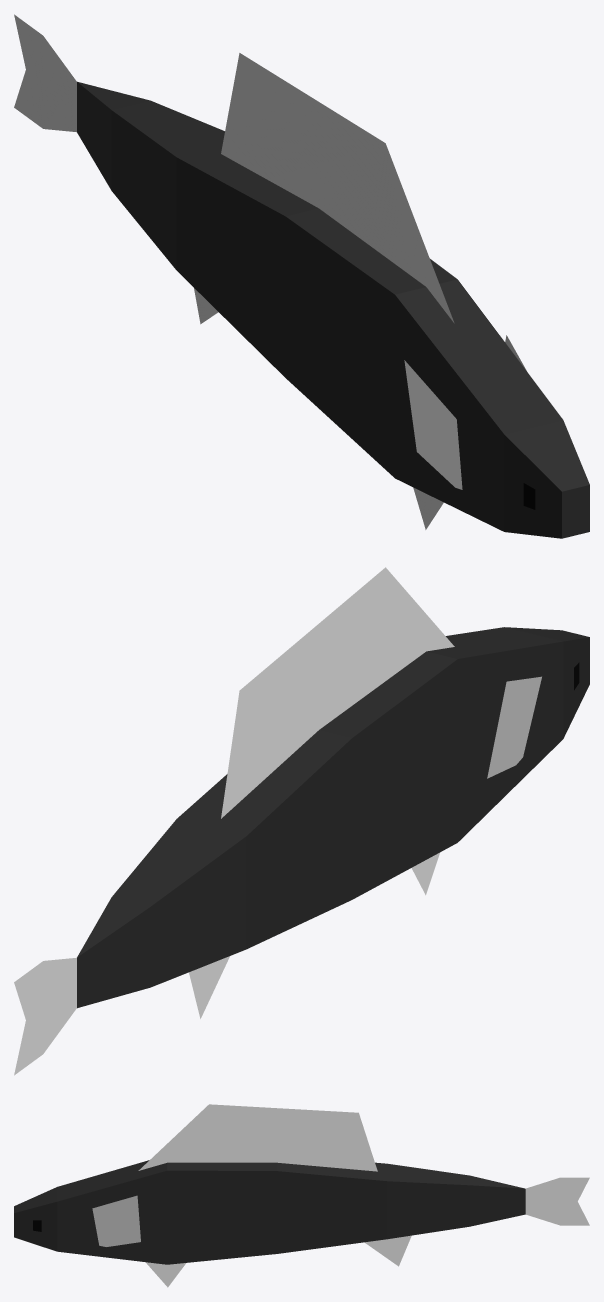
File: 16barracuda.fbx
3 renders of one model, top to bottom at view 1: azimuth 30°, elevation 25°; view 2: azimuth 150°, elevation 25°; view 3: azimuth 270°, elevation 25°, orthographic. The views are drawn at different scales.
Visible parts, largest first — view 1: Tropical Fish 16; view 2: Tropical Fish 16; view 3: Tropical Fish 16.
Part boxes in pixels (x1=…): Tropical Fish 16: x1=14, y1=14, x2=589, y2=538; Tropical Fish 16: x1=14, y1=567, x2=589, y2=1075; Tropical Fish 16: x1=14, y1=1104, x2=589, y2=1287.
Bounding box in the file's own units: 26.27 × 87.84 × 250.
